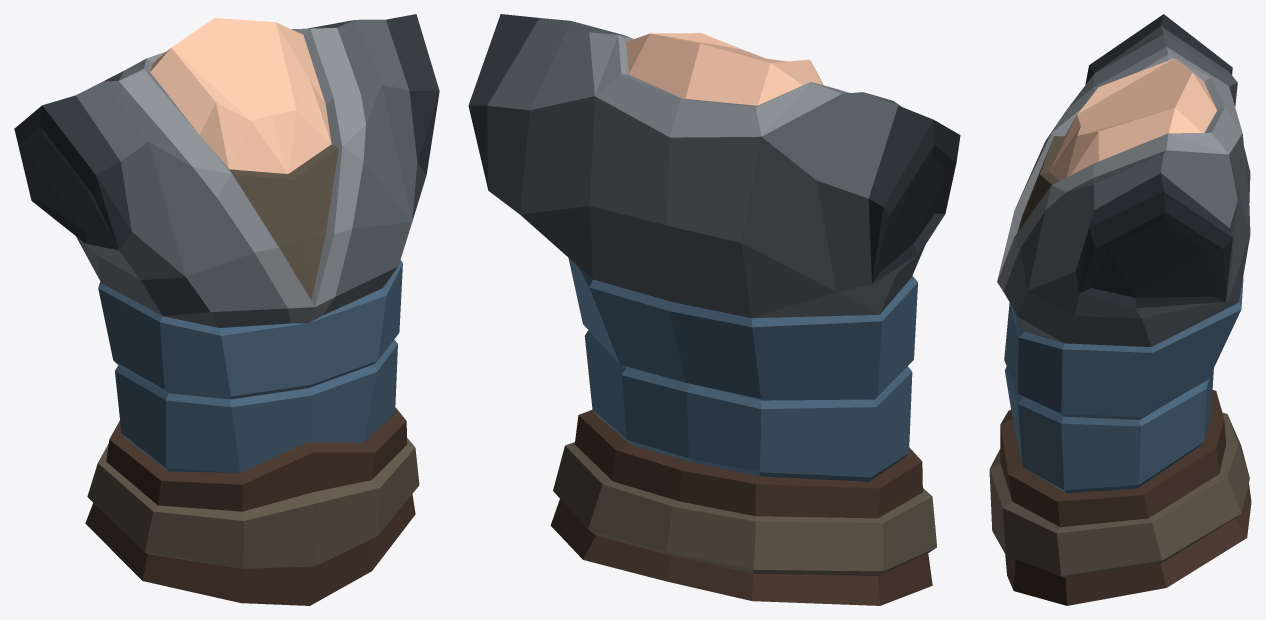
The model's file is Chr_Torso_Male_11_Static.fbx.
3 renders of one model, left to right at view 1: azimuth 30°, elevation 25°; view 2: azimuth 150°, elevation 25°; view 3: azimuth 270°, elevation 25°, orthographic. The views are drawn at different scales.
Parts seen in each view (by area): view 1: Chr_Torso_Male_11_Static; view 2: Chr_Torso_Male_11_Static; view 3: Chr_Torso_Male_11_Static.
Boxes of the visible parts, x1,y1,x2,y2 form: Chr_Torso_Male_11_Static: [14, 14, 439, 605]; Chr_Torso_Male_11_Static: [468, 14, 960, 605]; Chr_Torso_Male_11_Static: [989, 14, 1251, 605].
Bounding box in the file's own units: 0.502 × 0.6585 × 0.3107.
